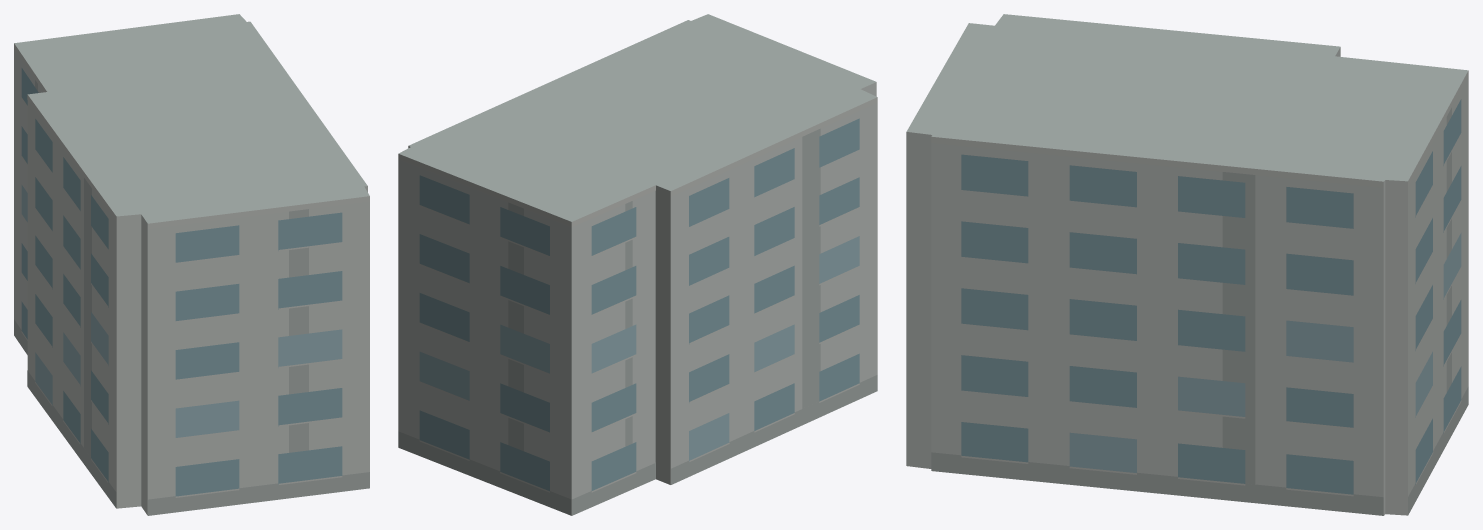
The model's file is survey-upis-32850269.glb.
3 renders of one model, left to right at view 1: azimuth 30°, elevation 25°; view 2: azimuth 150°, elevation 25°; view 3: azimuth 270°, elevation 25°, orthographic. The views are drawn at different scales.
Parts seen in each view (by area): view 1: survey-upis-32850269.tmp; view 2: survey-upis-32850269.tmp; view 3: survey-upis-32850269.tmp.
Boxes of the visible parts, <box> form: survey-upis-32850269.tmp: <box>14,14,369,515</box>; survey-upis-32850269.tmp: <box>398,14,877,515</box>; survey-upis-32850269.tmp: <box>906,14,1468,515</box>.
Size of the model in its own units: 14.21 by 13.2 by 20.13.
